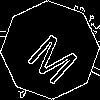M: (25, 25, 87, 87)
